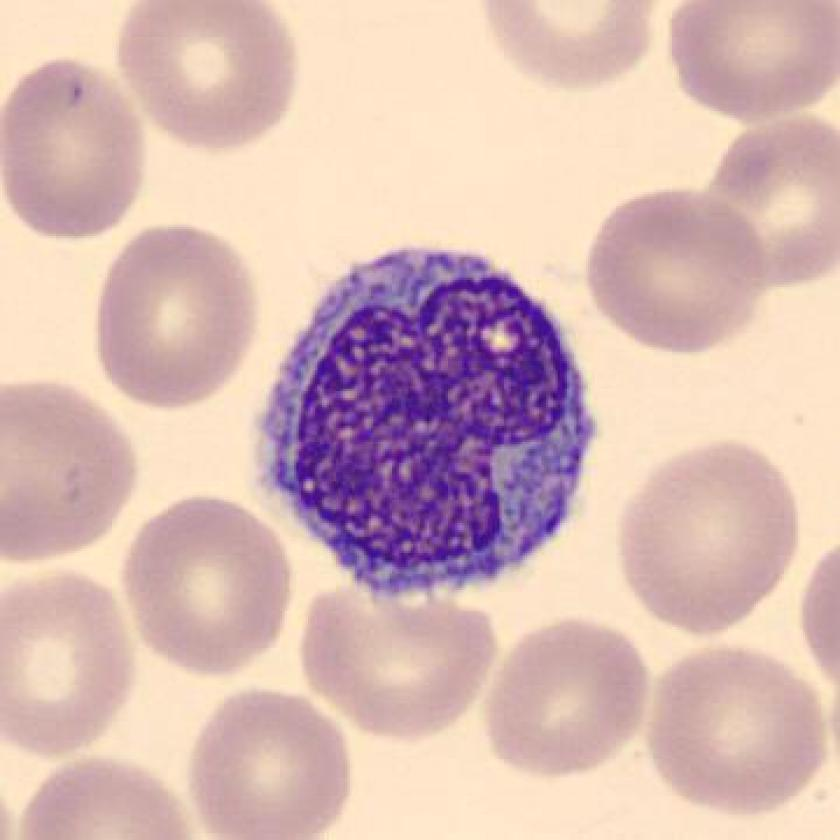monocyte: (234, 225, 615, 619)
